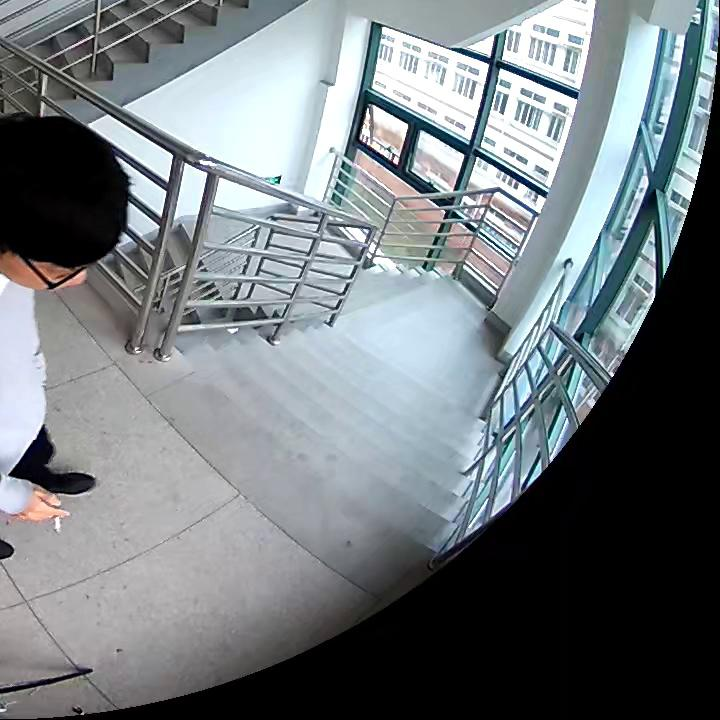handsmoke: (18, 488, 73, 531)
mouthwithoutsmoke: (4, 106, 131, 295)
